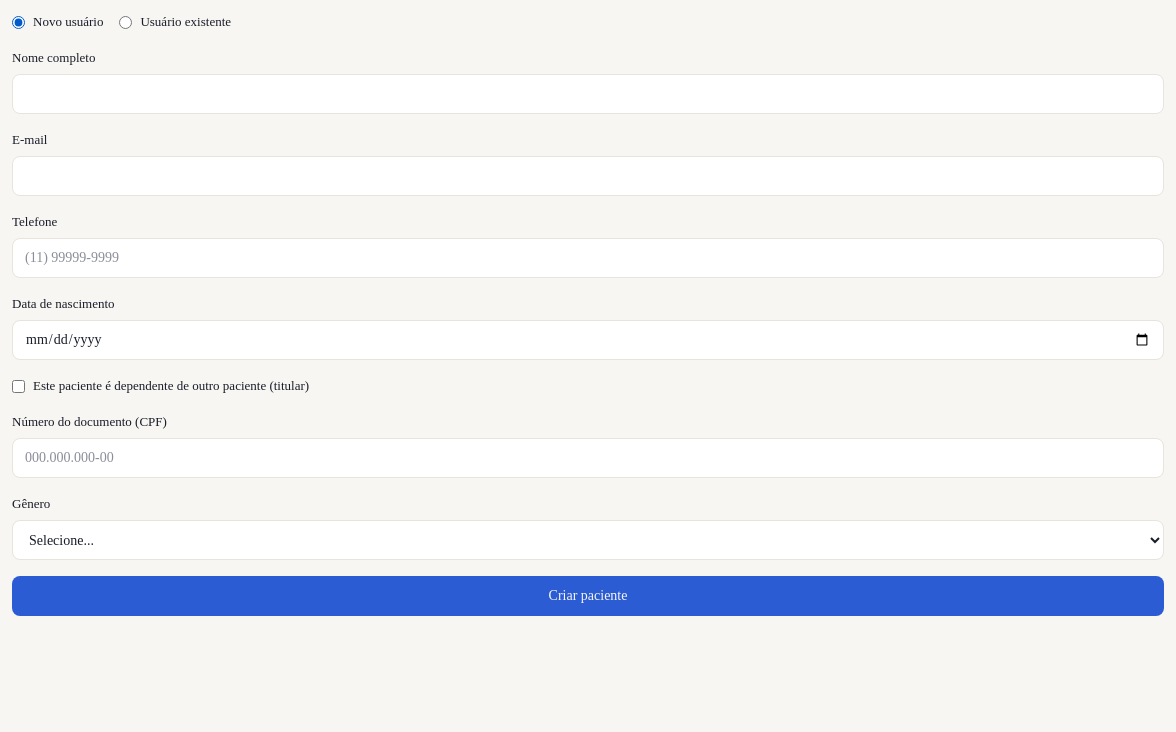
it: PatientForm (integration) — create mode › shows user search and hides fullName/email when switching to existing mode
What coordinates should you click on to do the following:
click the radio button with test id "patient-form-user-mode-existing"
I would click on:
 (126, 22)
Its box is [119,16,132,28].
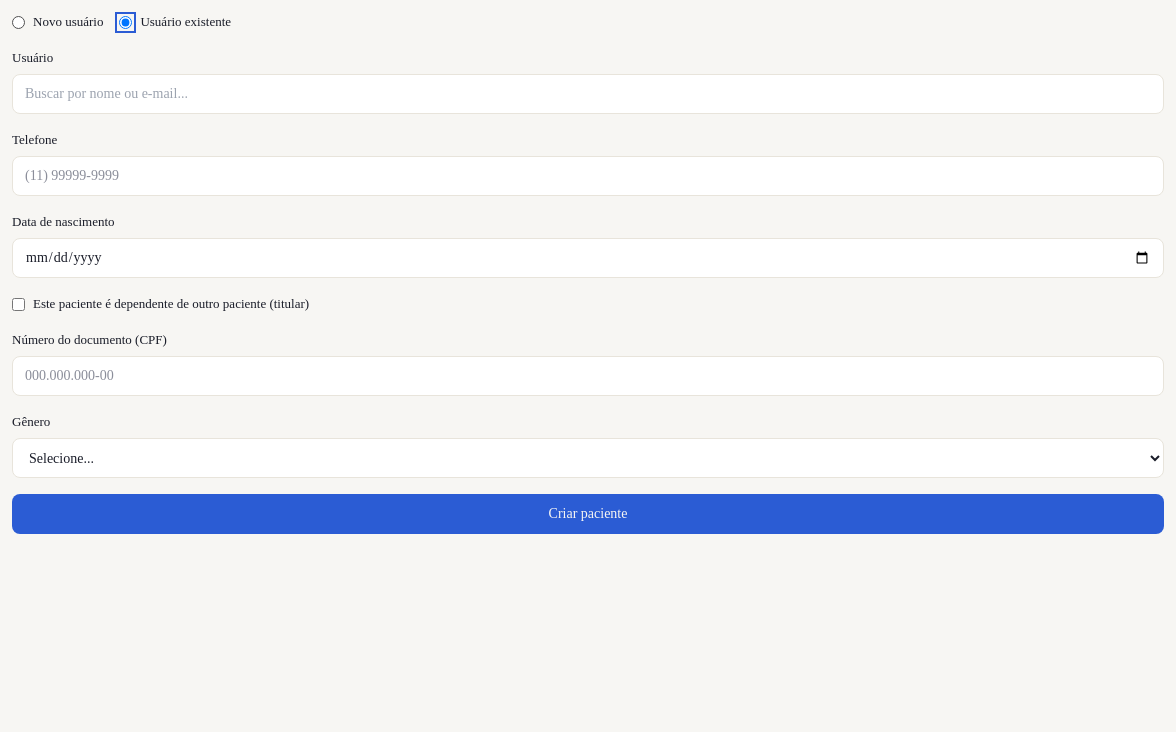
Expected: the field with test id "patient-form-user-search" is shown, [12,74,1164,114]
Expected: the field with test id "patient-form-fullname" is gone
Expected: the field with test id "patient-form-email" is gone
